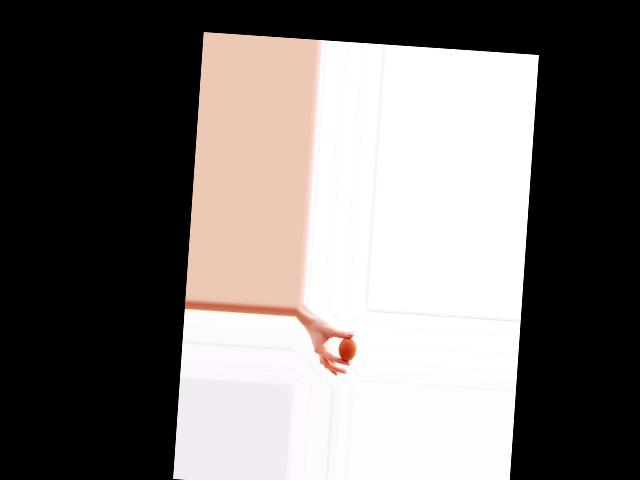egg: (338, 337, 357, 362)
